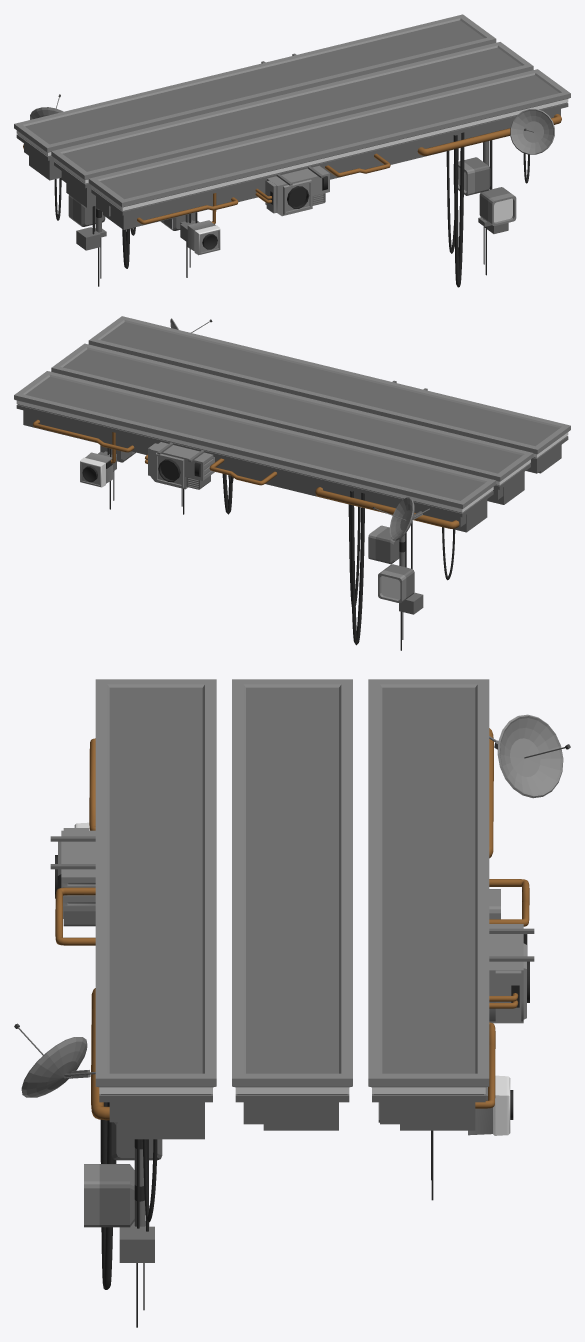
Rendered from Platform_4x1.glb.
3 views of the same model, one above another, from view 1: azimuth 30°, elevation 25°; view 2: azimuth 150°, elevation 25°; view 3: azimuth 270°, elevation 25° (orthographic). The views are drawn at different scales.
Visible parts, largest first — view 1: Platform_4x1_geometry; view 2: Platform_4x1_geometry; view 3: Platform_4x1_geometry.
Boxes of the visible parts, bbox=[...] form: Platform_4x1_geometry: bbox=[14, 14, 570, 287]; Platform_4x1_geometry: bbox=[14, 316, 570, 650]; Platform_4x1_geometry: bbox=[14, 679, 570, 1327].
Size of the model in its own units: 7.63 by 2.81 by 4.5.
